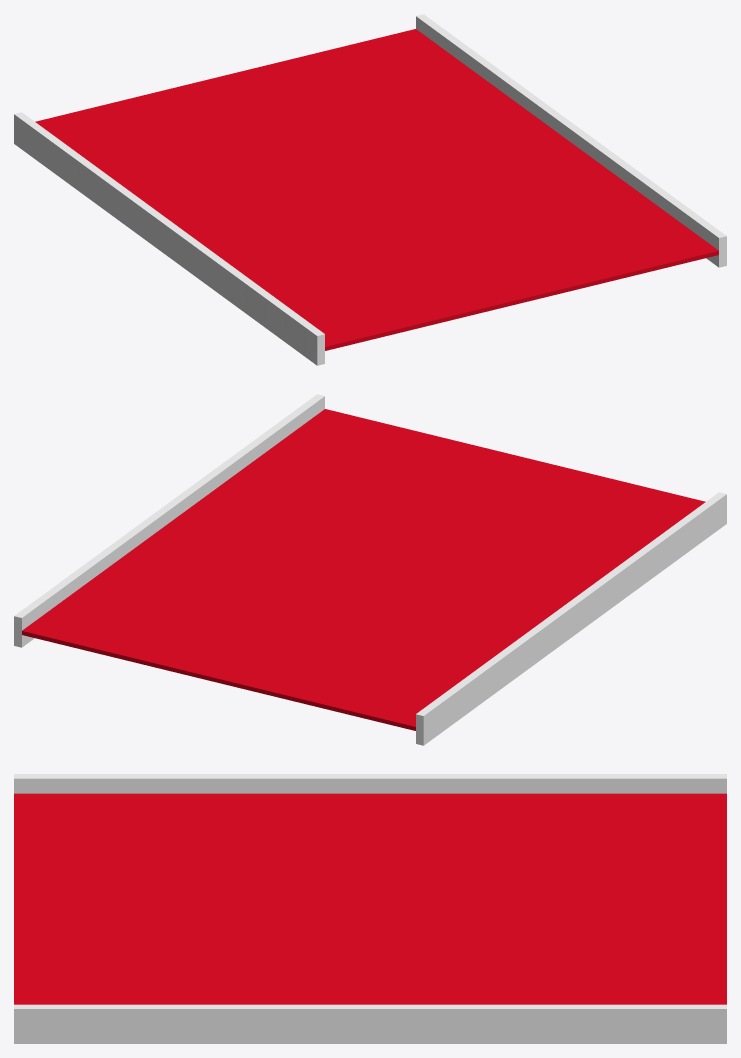
The model's file is Board.gltf.
3 renders of one model, top to bottom at view 1: azimuth 30°, elevation 25°; view 2: azimuth 150°, elevation 25°; view 3: azimuth 270°, elevation 25°, orthographic. The views are drawn at different scales.
Visible parts, largest first — view 1: Floor, LWall, RWall; view 2: Floor, LWall, RWall; view 3: Floor, RWall, LWall.
Boxes of the visible parts, x1=… form: Floor: x1=35, y1=29, x2=718, y2=350; LWall: x1=14, y1=112, x2=324, y2=365; RWall: x1=416, y1=14, x2=726, y2=267; Floor: x1=22, y1=409, x2=705, y2=730; LWall: x1=416, y1=492, x2=726, y2=745; RWall: x1=14, y1=394, x2=324, y2=647; Floor: x1=14, y1=793, x2=726, y2=1004; RWall: x1=14, y1=1004, x2=726, y2=1043; LWall: x1=14, y1=774, x2=726, y2=793.
Size of the model in its own units: 31.2 by 2.16 by 40.
